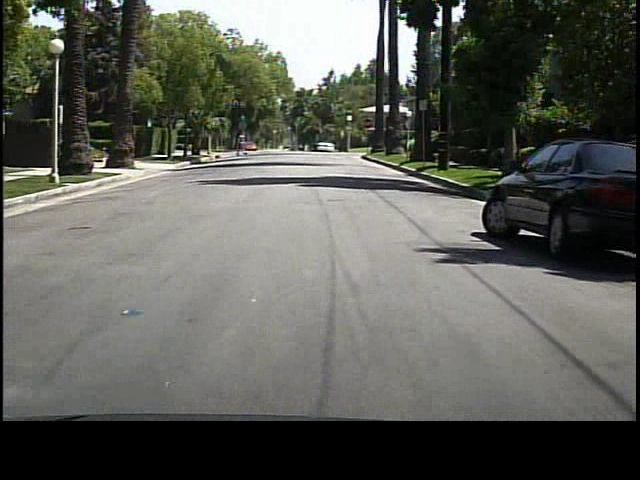person: (234, 130, 249, 161)
